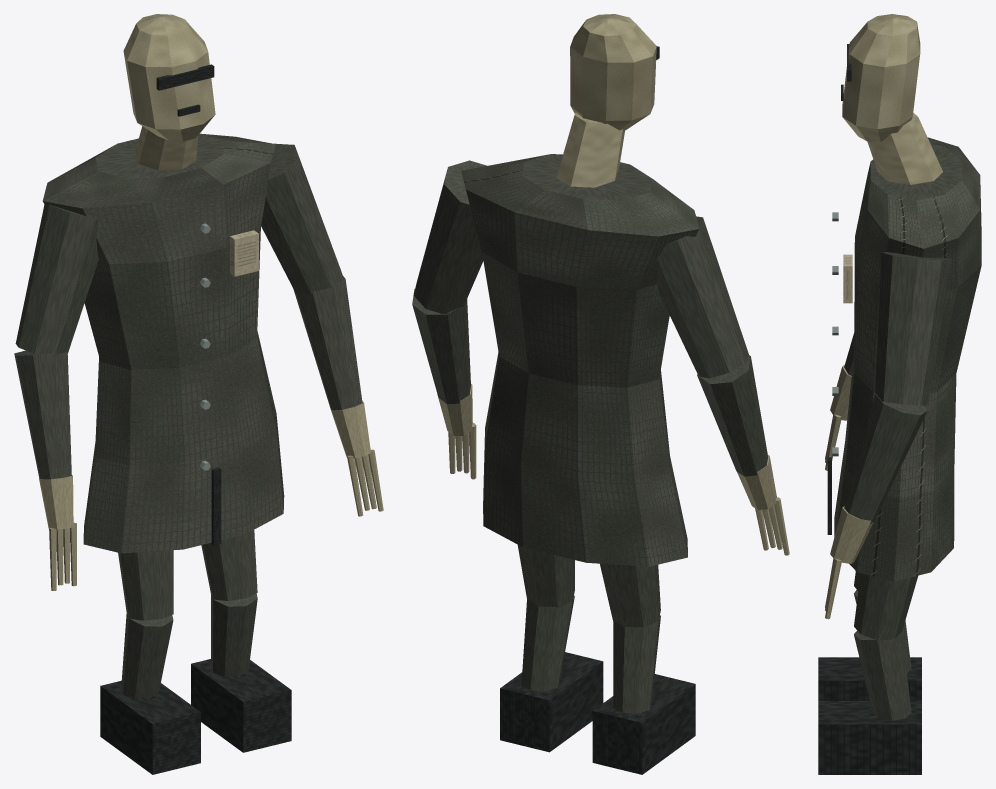
Rendered from Watcher.obj.
The picture shows the model from 3 angles, left to right: view 1: azimuth 30°, elevation 25°; view 2: azimuth 150°, elevation 25°; view 3: azimuth 270°, elevation 25°; orthographic projection. The views are drawn at different scales.
Visible parts, largest first — view 1: Watcher; view 2: Watcher; view 3: Watcher.
Part boxes in pixels (x1,y1,x2,y2): Watcher: (14, 14, 383, 774); Watcher: (412, 14, 789, 774); Watcher: (818, 14, 981, 774).
Bounding box in the file's own units: 1.02 × 2.12 × 0.4412.
5 materials, 5 textured.
